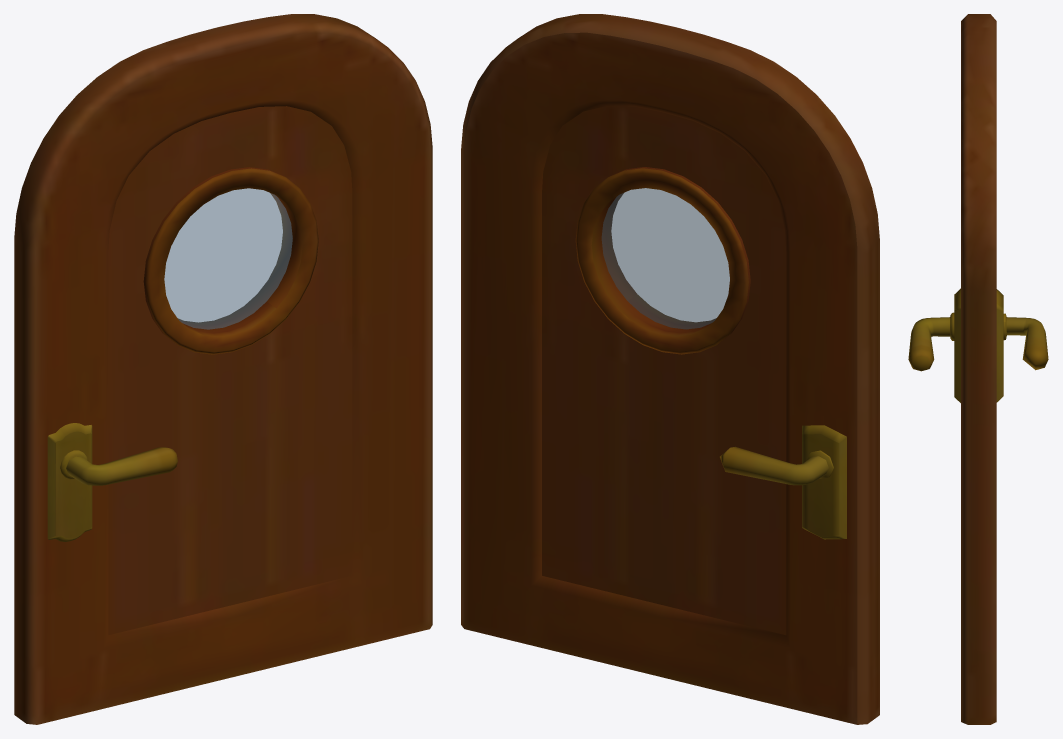
File: door-cercle-window-r.glb
3 renders of one model, left to right at view 1: azimuth 30°, elevation 25°; view 2: azimuth 150°, elevation 25°; view 3: azimuth 270°, elevation 25°, orthographic. The views are drawn at different scales.
Bounding box in the file's own units: 12 × 18 × 3.91.
Materials: 2 (1 with a texture image).
